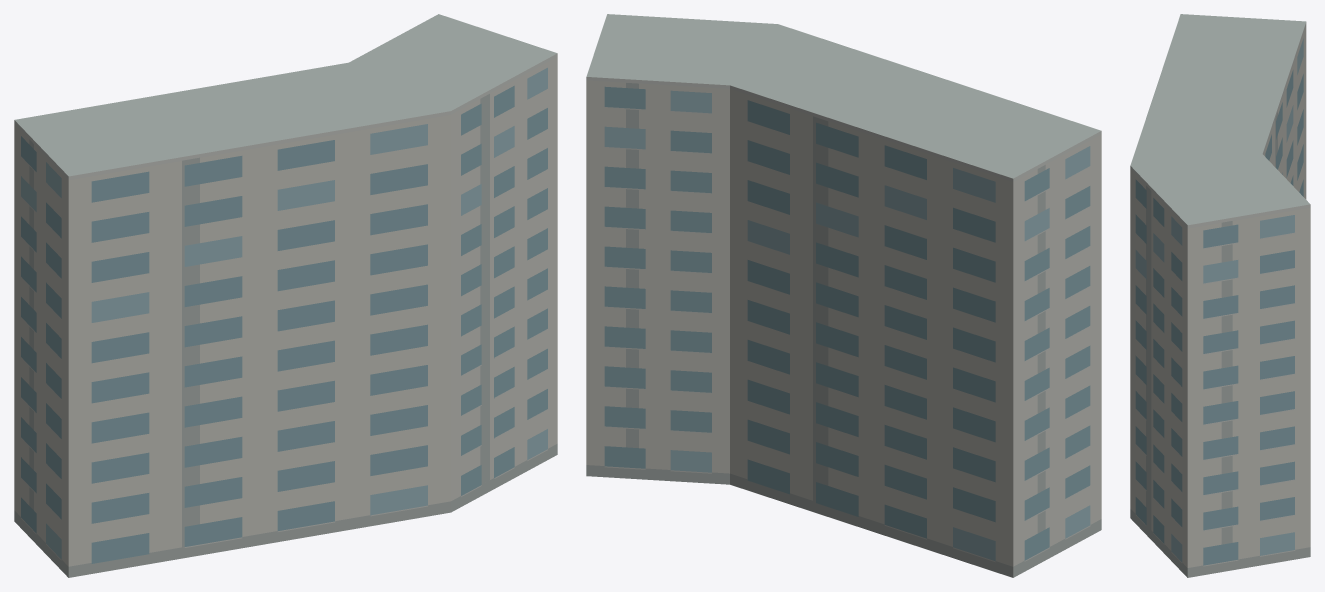
Rendered from residential-9fa78ecc-40aa-4d28-bf8e-083438a3a901.glb.
3 renders of one model, left to right at view 1: azimuth 30°, elevation 25°; view 2: azimuth 150°, elevation 25°; view 3: azimuth 270°, elevation 25°, orthographic. The views are drawn at different scales.
Visible parts, largest first — view 1: residential-9fa78ecc-40aa-4d28-bf8e-083438a3a901.tmp; view 2: residential-9fa78ecc-40aa-4d28-bf8e-083438a3a901.tmp; view 3: residential-9fa78ecc-40aa-4d28-bf8e-083438a3a901.tmp.
Boxes of the visible parts, x1,y1,x2,y2 form: residential-9fa78ecc-40aa-4d28-bf8e-083438a3a901.tmp: [14, 14, 557, 577]; residential-9fa78ecc-40aa-4d28-bf8e-083438a3a901.tmp: [586, 14, 1101, 577]; residential-9fa78ecc-40aa-4d28-bf8e-083438a3a901.tmp: [1130, 14, 1310, 577].
Bounding box in the file's own units: 34.71 × 27 × 12.51.
